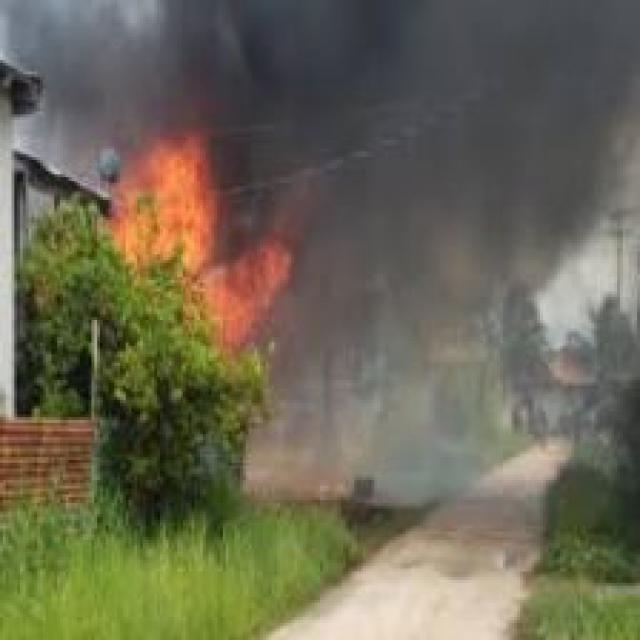fire: (97, 111, 312, 380)
